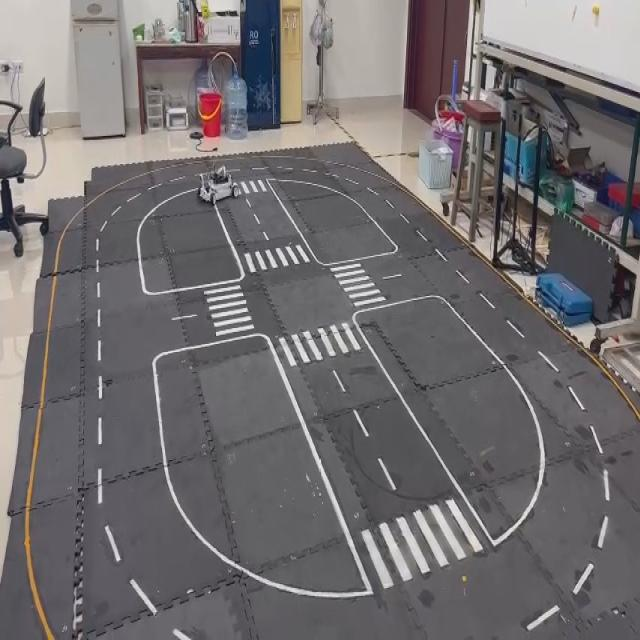SiCo-CAR: (196, 163, 240, 205)
